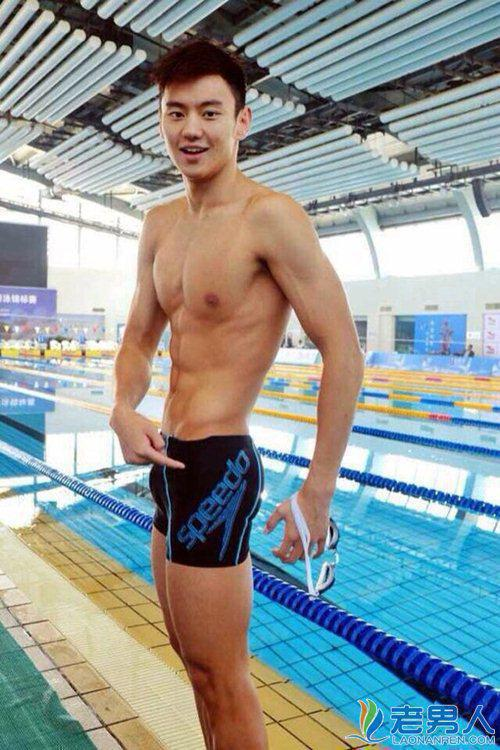mattress: (101, 43, 378, 726)
people: (334, 275, 477, 637)
table: (26, 93, 260, 446)
